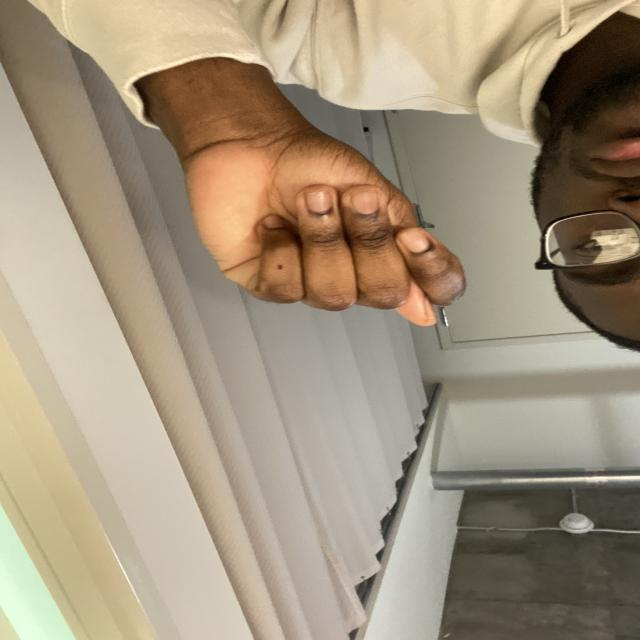Bathroom: (203, 106, 488, 348)
